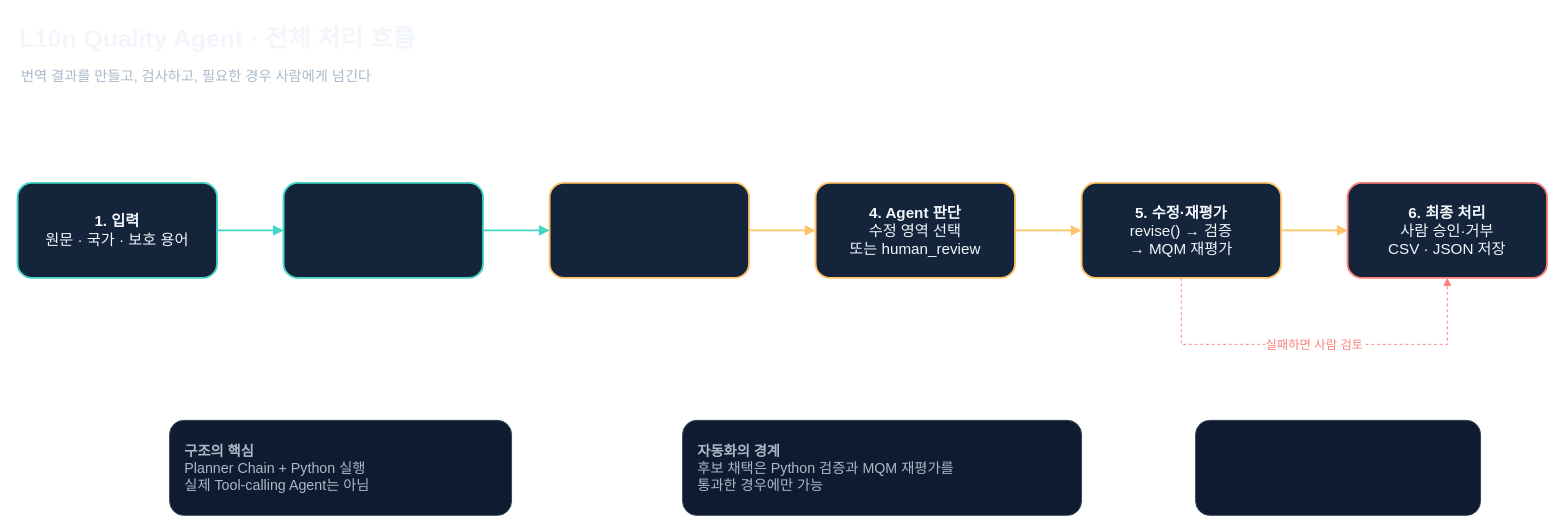
The diagram is 1564 pixels wide and 532 high, and some of its shapes have lost their labels. The centre of each missing label's shape, as x and y in pixels:
"2. 초기 번역 LangChain Prompt → Qwen" belongs at [383,229].
"3. 품질 검사 Python 안전 검증 + MQM 평가" belongs at [649,229].
"결과 번역문 · 오류 근거 · 수정 이력 · 상태" belongs at [1338,467].
